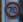Speed Limit -70-: (0, 0, 22, 21)
